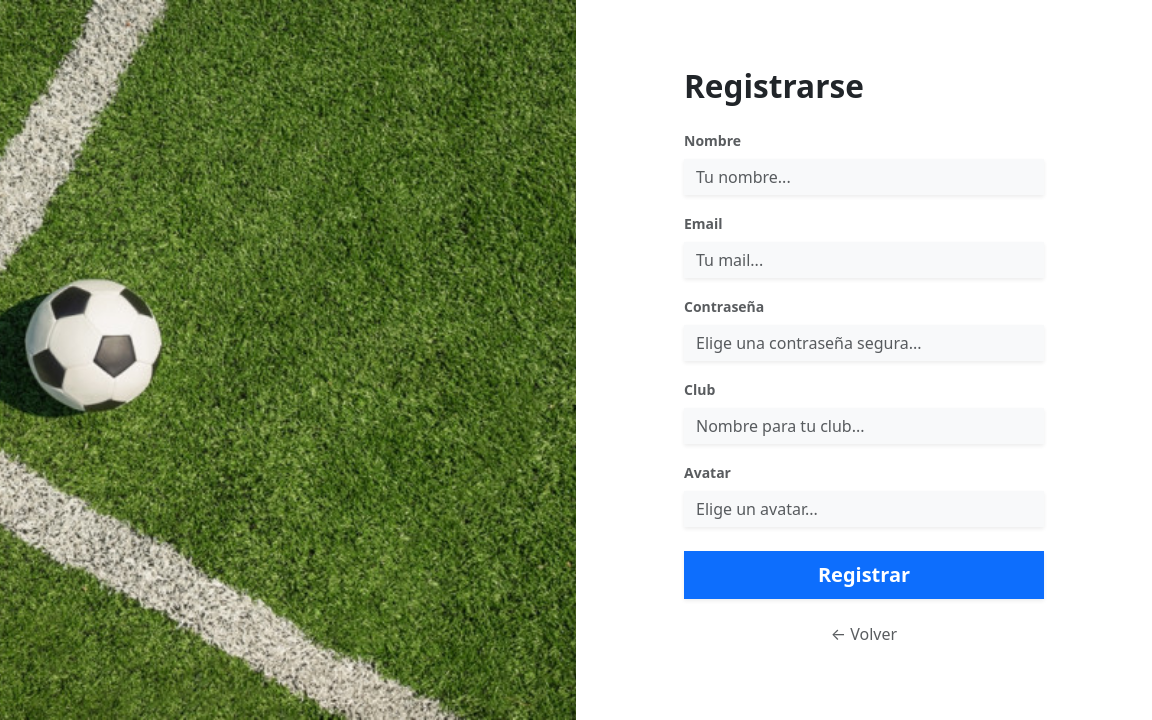
FormRegistro › muestra errores cuando los campos obligatorios están vacíos
What coordinates should you click on to do the following:
click the button "Registrar"
I would click on:
 (864, 575)
Its box is [684, 551, 1044, 599].
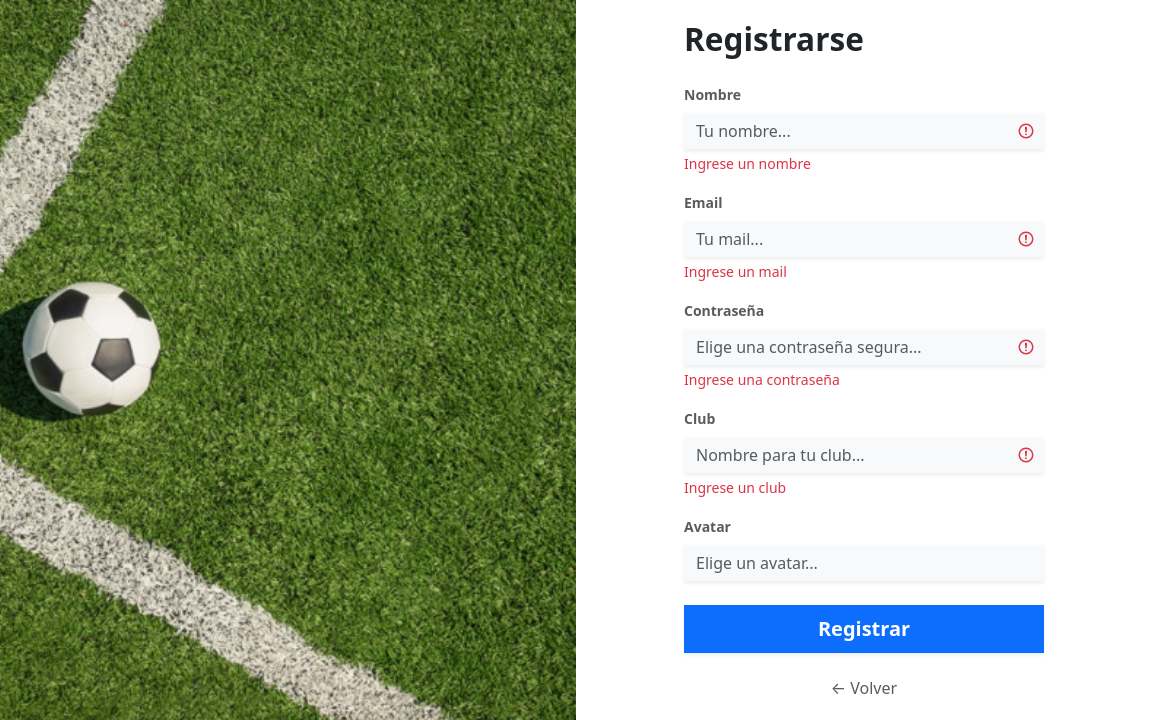
expect the text "Ingrese un nombre" is shown: met, box [684, 154, 811, 173]
expect the text "Ingrese un mail" is shown: met, box [684, 262, 787, 281]
expect the text "Ingrese una contraseña" is shown: met, box [684, 370, 840, 389]
